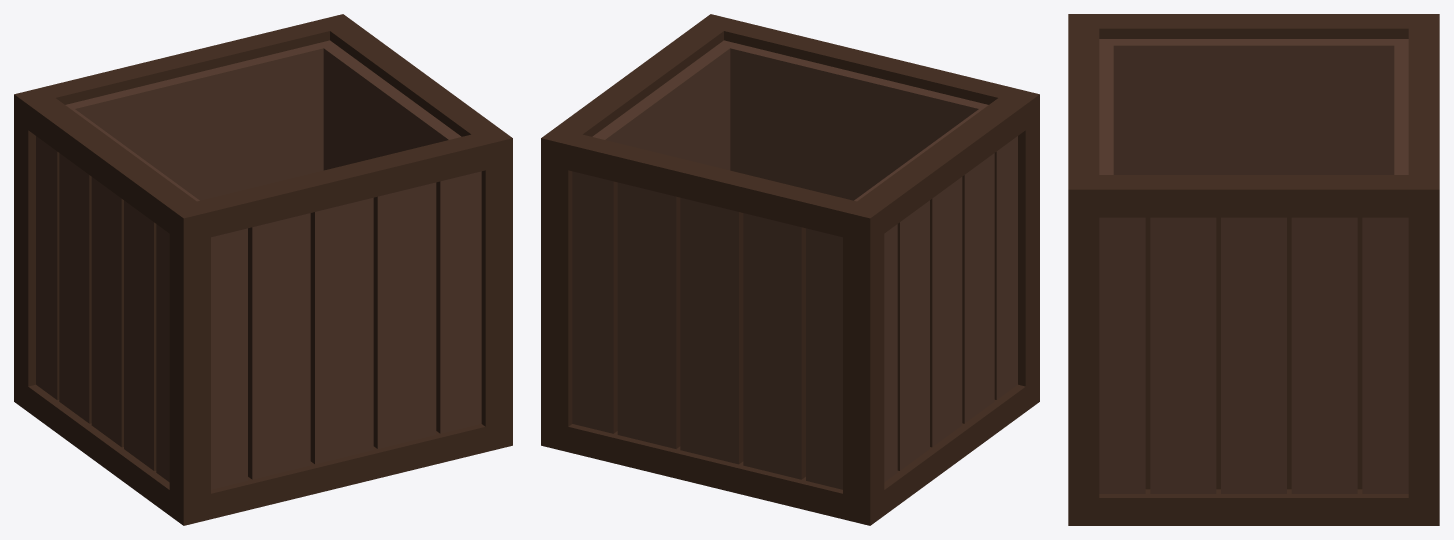
File: crate.glb
3 renders of one model, left to right at view 1: azimuth 30°, elevation 25°; view 2: azimuth 150°, elevation 25°; view 3: azimuth 270°, elevation 25°, orthographic. The views are drawn at different scales.
Parts seen in each view (by area): view 1: box.004; view 2: box.004; view 3: box.004.
Part boxes in pixels (x1,y1,x2,y2): box.004: (14, 14, 512, 525); box.004: (541, 14, 1039, 525); box.004: (1068, 14, 1439, 525).
Bounding box in the file's own units: 0.7401 × 0.6607 × 0.6607.
